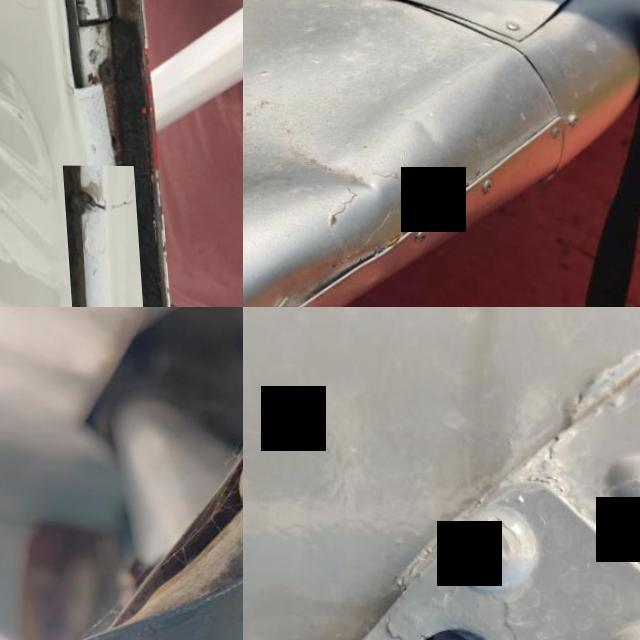Crack: (57, 164, 136, 307), (0, 0, 87, 126), (216, 469, 243, 547)
Dent: (243, 56, 399, 261)
Missing_Fastener: (363, 596, 552, 640)
